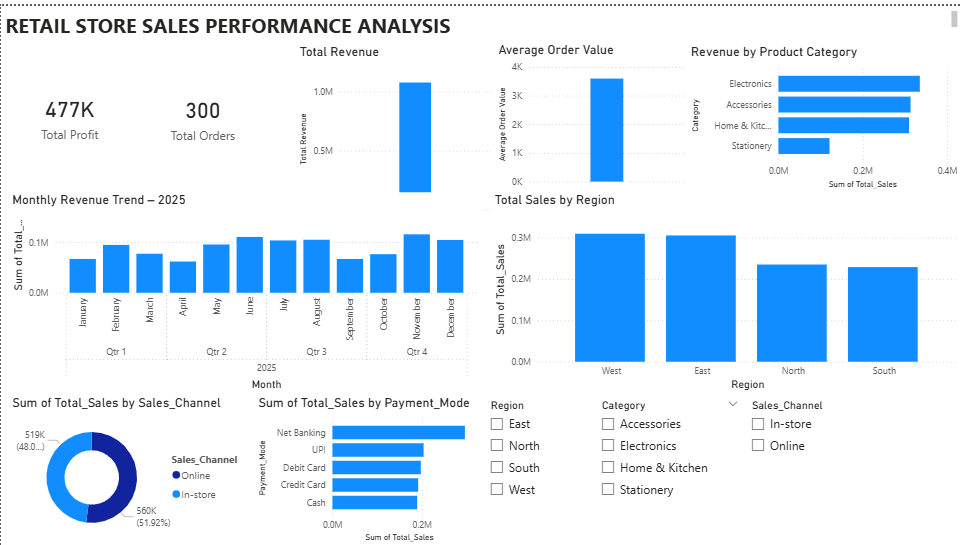

What the dashboard file says about the page in this screenshot:
{"tool":"powerbi","page":{"name":"Page 1","canvas":[1280,720],"ordinal":0},"visuals":[{"type":"clusteredColumnChart","fields":{"Y":["Sales_Data.Total Revenue"]},"box":[392.9,50,265.7,235.7],"z":0},{"type":"card","fields":{"Values":["Sales_Data.Total Profit"]},"box":[2.9,45.7,177.1,202.9],"z":1000},{"type":"card","fields":{"Values":["Sales_Data.Total Orders"]},"box":[180,48.6,178.6,200],"z":2000},{"type":"clusteredColumnChart","fields":{"Y":["Sales_Data.Average Order Value"]},"box":[658.3,48.3,260,200],"z":3000},{"type":"clusteredColumnChart","title":"Monthly Revenue Trend – 2025","fields":{"Y":["Sum(Sales_Data.Total_Sales)"],"Category":["Sales_Data.Order_Date.Variation.Date Hierarchy.Year","Sales_Data.Order_Date.Variation.Date Hierarchy.Quarter","Sales_Data.Order_Date.Variation.Date Hierarchy.Month","Sales_Data.Order_Date.Variation.Date Hierarchy.Day"]},"box":[10,248.3,630,270],"z":4000},{"type":"clusteredBarChart","title":"Revenue by Product Category","fields":{"Category":["Sales_Data.Category"],"Y":["Sum(Sales_Data.Total_Sales)"]},"box":[914.2,50,365.8,198.3],"z":5000},{"type":"clusteredColumnChart","title":"Total Sales by Region","fields":{"Category":["Sales_Data.Region"],"Y":["Sum(Sales_Data.Total_Sales)"]},"box":[653.3,248.3,626.7,270],"z":6000},{"type":"donutChart","fields":{"Category":["Sales_Data.Sales_Channel"],"Y":["Sum(Sales_Data.Total_Sales)"]},"box":[10,518.3,328.3,201.7],"z":7000},{"type":"clusteredBarChart","fields":{"Category":["Sales_Data.Payment_Mode"],"Y":["Sum(Sales_Data.Total_Sales)"]},"box":[338.3,518.3,301.7,201.7],"z":8000},{"type":"slicer","fields":{"Values":["Sales_Data.Region"]},"box":[640,518.3,148.3,201.7],"z":9000},{"type":"slicer","fields":{"Values":["Sales_Data.Category"]},"box":[788.3,518.3,206.7,201.7],"z":10000},{"type":"slicer","fields":{"Values":["Sales_Data.Sales_Channel"]},"box":[988.3,518.3,178.3,201.7],"z":11000},{"type":"textbox","box":[0,1.7,1280,43.3],"z":11001}]}

Visuals, with their boxes in screenshot pixels (x1, y1, x2, y2), scaled from the page's 1280x720 canvas onto the 961x545 screenshot:
clusteredColumnChart - Sales_Data.Total Revenue: locate(295, 38, 494, 216)
card - Sales_Data.Total Profit: locate(2, 35, 135, 188)
card - Sales_Data.Total Orders: locate(135, 37, 269, 188)
clusteredColumnChart - Sales_Data.Average Order Value: locate(494, 37, 689, 188)
"Monthly Revenue Trend – 2025" clusteredColumnChart: locate(8, 188, 480, 392)
"Revenue by Product Category" clusteredBarChart: locate(686, 38, 960, 188)
"Total Sales by Region" clusteredColumnChart: locate(490, 188, 960, 392)
donutChart - Sales_Data.Sales_Channel x Sum(Sales_Data.Total_Sales): locate(8, 392, 254, 544)
clusteredBarChart - Sales_Data.Payment_Mode x Sum(Sales_Data.Total_Sales): locate(254, 392, 480, 544)
slicer - Sales_Data.Region: locate(480, 392, 592, 544)
slicer - Sales_Data.Category: locate(592, 392, 747, 544)
slicer - Sales_Data.Sales_Channel: locate(742, 392, 876, 544)
textbox: locate(0, 1, 960, 34)
